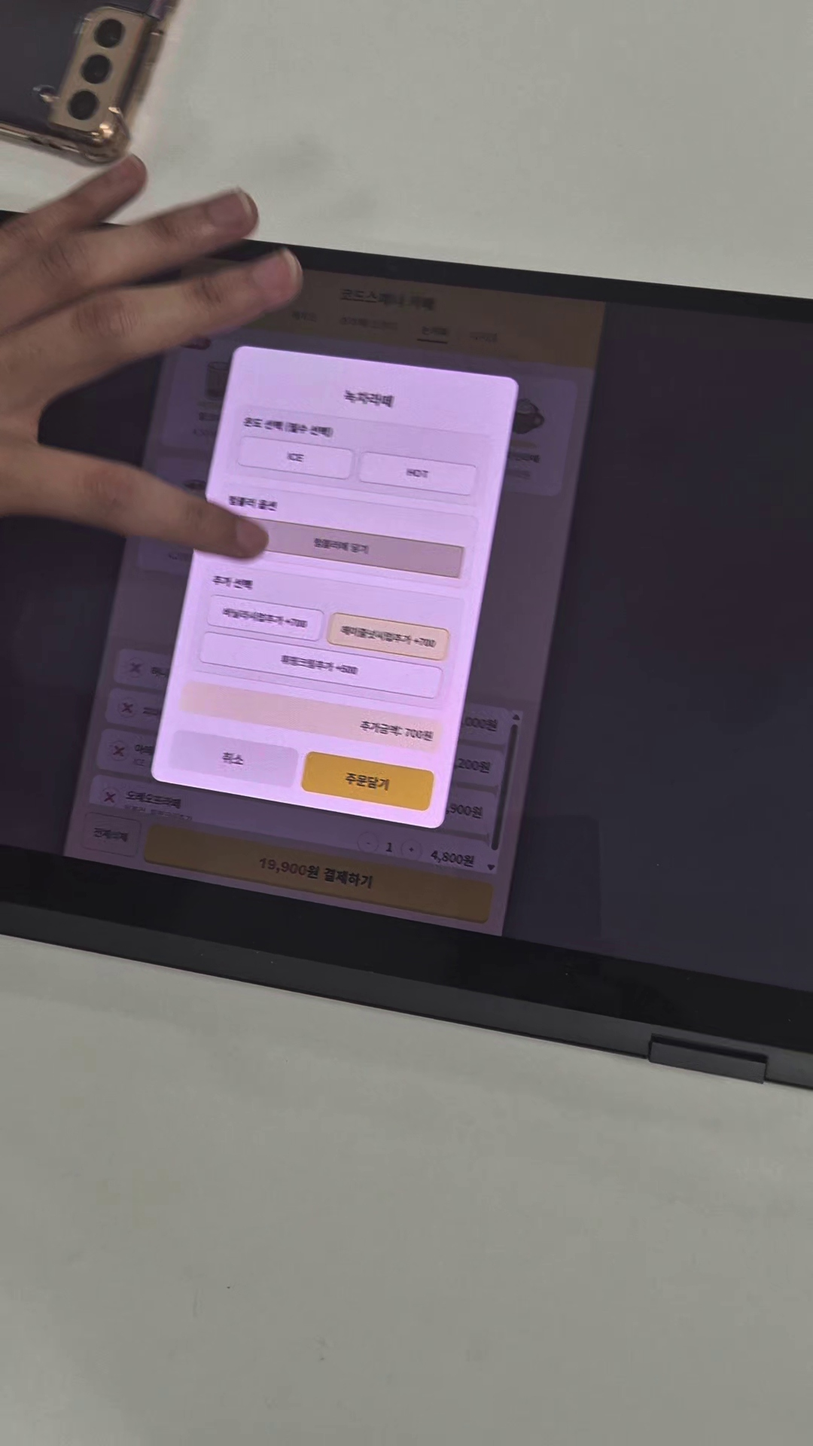action_button: (301, 751, 435, 812), (166, 727, 300, 788)
option_button: (218, 515, 465, 579), (197, 635, 444, 699), (327, 614, 448, 659), (205, 596, 326, 641), (362, 454, 477, 498), (237, 435, 352, 478)
popup_modal: (150, 349, 518, 833)
